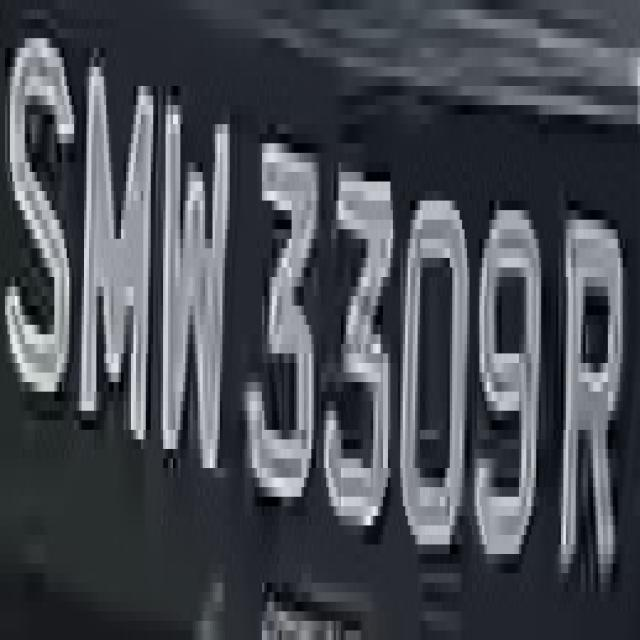0: (395, 134, 477, 564)
3: (321, 124, 393, 573), (250, 105, 321, 535)
9: (467, 163, 551, 573)
M: (74, 29, 158, 487)
R: (551, 191, 628, 611)
S: (2, 10, 76, 420)
W: (158, 29, 227, 506)
